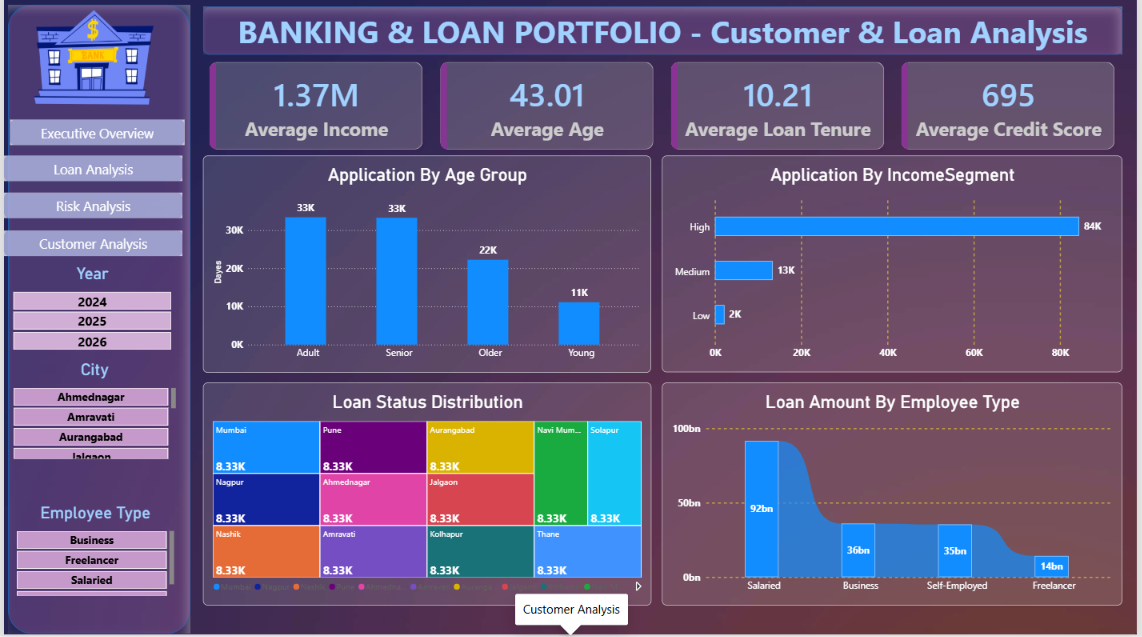

What the dashboard file says about the page in this screenshot:
{"tool":"powerbi","page":{"name":"Customer Analysis","canvas":[1920,1080],"ordinal":3},"visuals":[{"type":"cardVisual","fields":{"Data":["banking_loan_db loan_applications.Average Income","banking_loan_db loan_applications.Average Age","banking_loan_db loan_applications.Average Loan Tenure","banking_loan_db loan_applications.Average Credit Score"]},"box":[336.8,97.8,1558.7,170.7],"z":0},{"type":"shape","box":[7.5,12.5,309.3,1066.5],"z":1000},{"type":"columnChart","title":"Application By Age Group","fields":{"Category":["banking_loan_db loan_applications.Age_Group"],"Y":["CountNonNull(banking_loan_db loan_applications.customer_id)"]},"box":[337.8,267.6,759,368.1],"z":2000},{"type":"ribbonChart","title":"Loan Amount By Employee Type ","fields":{"Category":["banking_loan_db loan_applications.employment_type"],"Y":["Sum(banking_loan_db loan_applications.loan_amount)"]},"box":[1115,652.5,780,377.5],"z":3000},{"type":"treemap","title":"Loan Status  Distribution ","fields":{"Group":["banking_loan_db loan_applications.city"],"Values":["CountNonNull(banking_loan_db loan_applications.customer_id)"]},"box":[337.5,652.5,760,377.5],"z":4000},{"type":"clusteredBarChart","title":"Application By IncomeSegment","fields":{"Category":["banking_loan_db loan_applications.Income_Segment"],"Y":["CountNonNull(banking_loan_db loan_applications.customer_id)"]},"box":[1115,267.5,780,367.5],"z":5000},{"type":"shape","box":[336.8,15.9,1558.7,81.9],"z":6000},{"type":"listSlicer","fields":{"Values":["banking_loan_db loan_applications.application_date.Variation.Date Hierarchy.Year"]},"box":[0,436.7,299.8,187.9],"z":7000},{"type":"listSlicer","title":"City","fields":{"Values":["banking_loan_db loan_applications.city"]},"box":[0,600,307.4,197.4],"z":8000},{"type":"listSlicer","title":"Employee Type ","fields":{"Values":["banking_loan_db loan_applications.employment_type"]},"box":[5,842.5,299.8,187.9],"z":9000},{"type":"actionButton","box":[10,207.5,295.8,43.2],"z":11000},{"type":"actionButton","box":[0,267.5,302.6,43.2],"z":12000},{"type":"actionButton","box":[0,330,302.6,43.2],"z":13000},{"type":"actionButton","box":[0,395,302.6,43.2],"z":14000},{"type":"image","box":[42.5,0,220,202.5],"z":14001}]}

Visuals, with their boxes on the page's 1920x1080 design canvas (x1, y1, x2, y2). These are canvas units, not pixel positions in the 1142x637 screenshot, which may show the page scaled, cropped or inside an application window:
cardVisual - banking_loan_db loan_applications.Average Income x banking_loan_db loan_applications.Average Age: 337 98 1896 268
shape: 8 12 317 1079
"Application By Age Group" columnChart: 338 268 1097 636
"Loan Amount By Employee Type " ribbonChart: 1115 652 1895 1030
"Loan Status  Distribution " treemap: 338 652 1098 1030
"Application By IncomeSegment" clusteredBarChart: 1115 268 1895 635
shape: 337 16 1896 98
listSlicer - banking_loan_db loan_applications.application_date.Variation.Date Hierarchy.Year: 0 437 300 625
"City" listSlicer: 0 600 307 797
"Employee Type " listSlicer: 5 842 305 1030
actionButton: 10 208 306 251
actionButton: 0 268 303 311
actionButton: 0 330 303 373
actionButton: 0 395 303 438
image: 42 0 262 202
